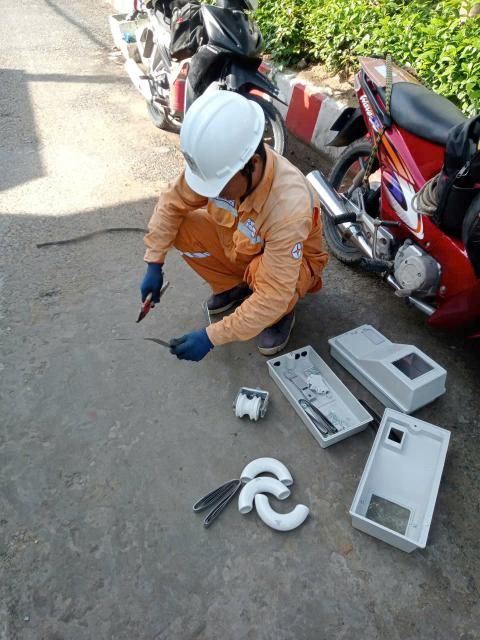gloves: (157, 321, 218, 363), (124, 267, 172, 311)
helmet: (156, 91, 294, 201)
shoes: (250, 299, 298, 355), (201, 276, 252, 319)
